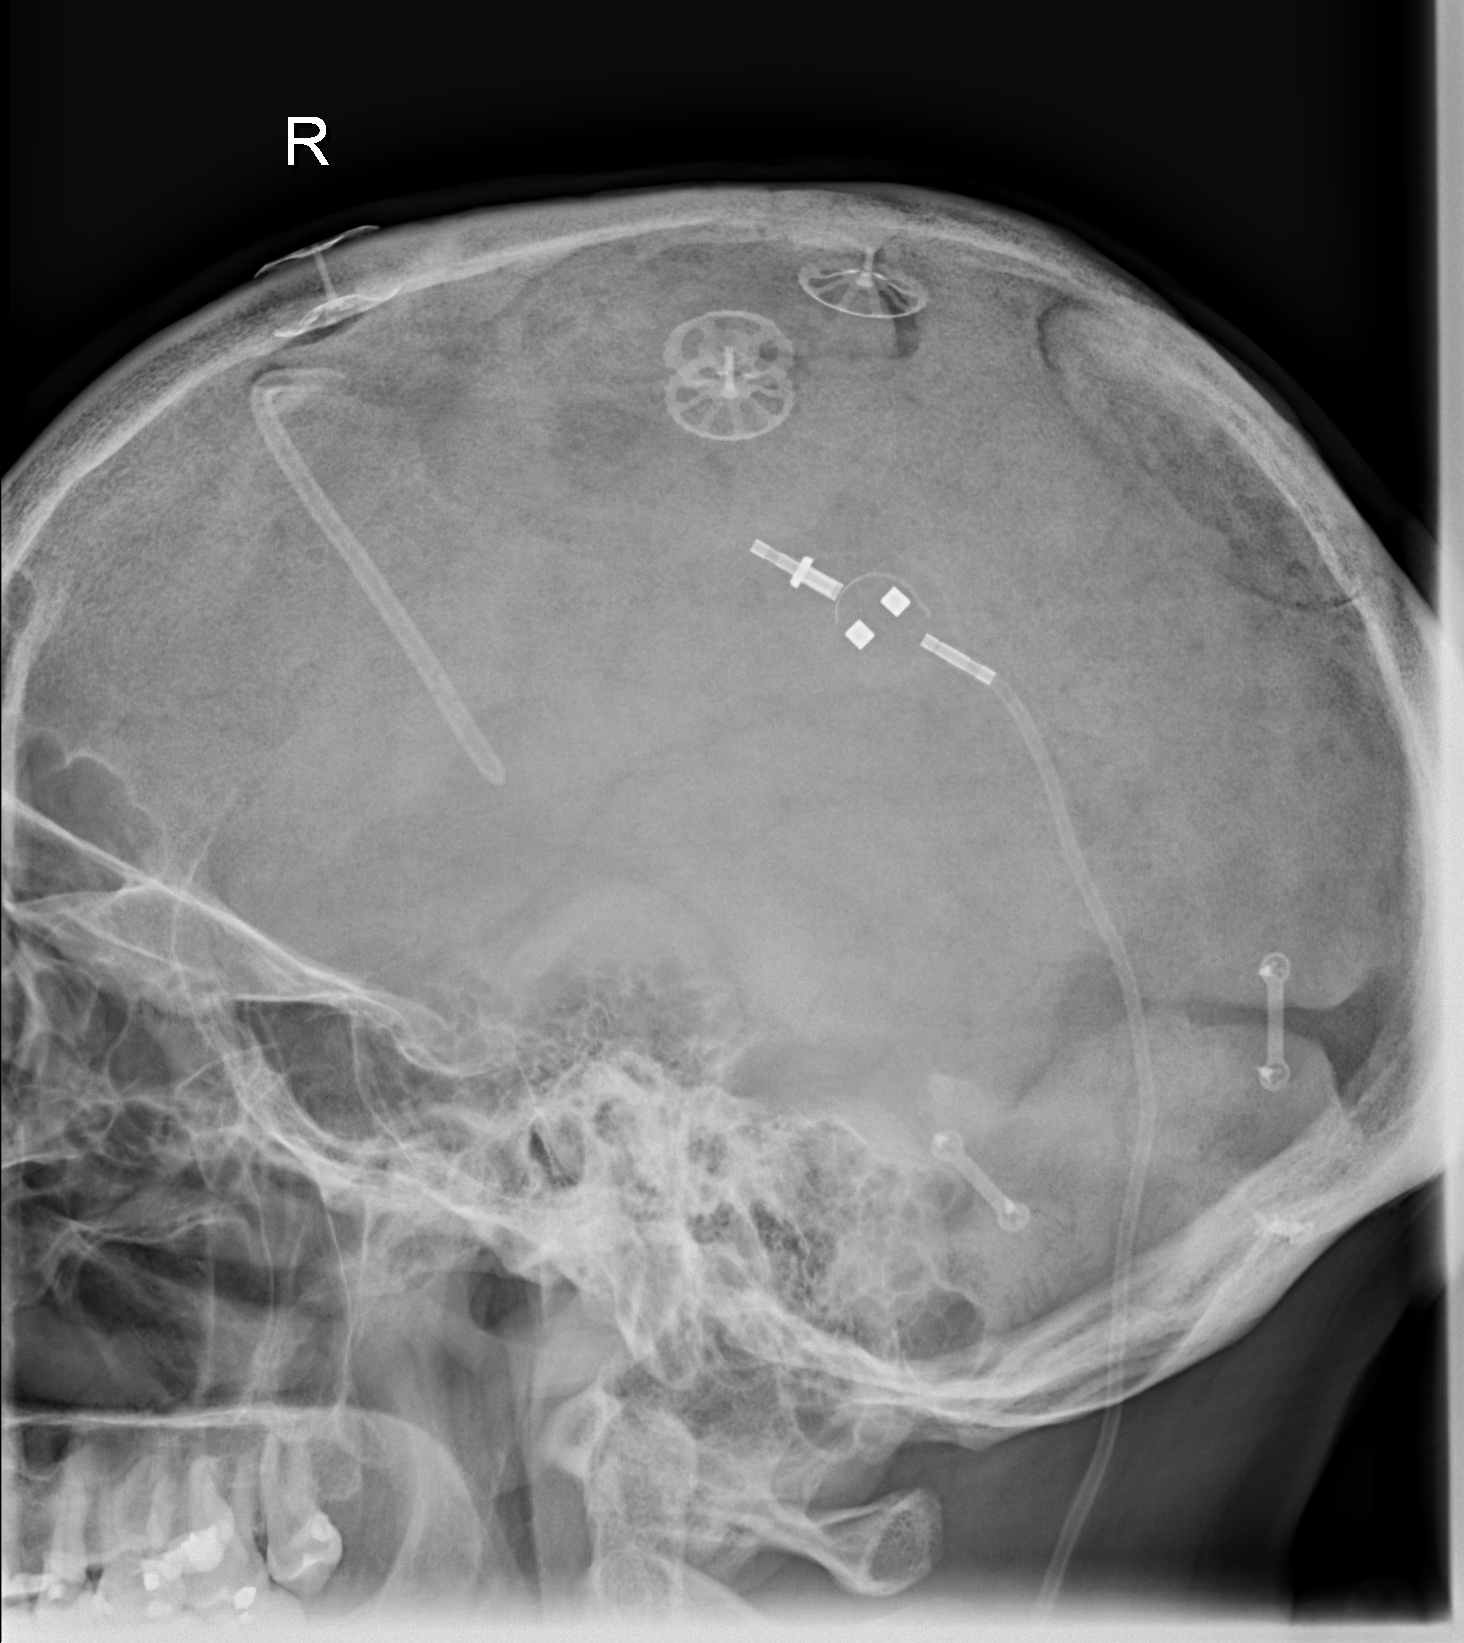Sophysa Polaris: (814, 544, 955, 687)
